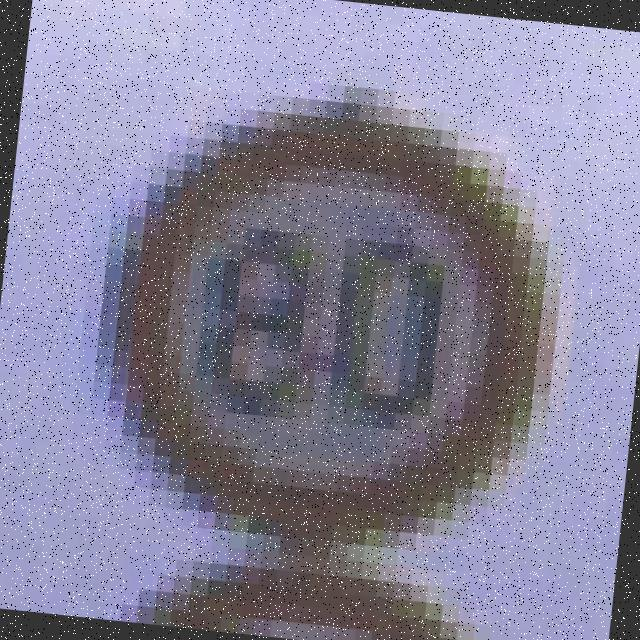Ograniczenie predkosci do 80: (108, 96, 562, 558)
